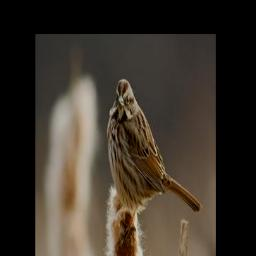Sparrow: (106, 76, 202, 251)
